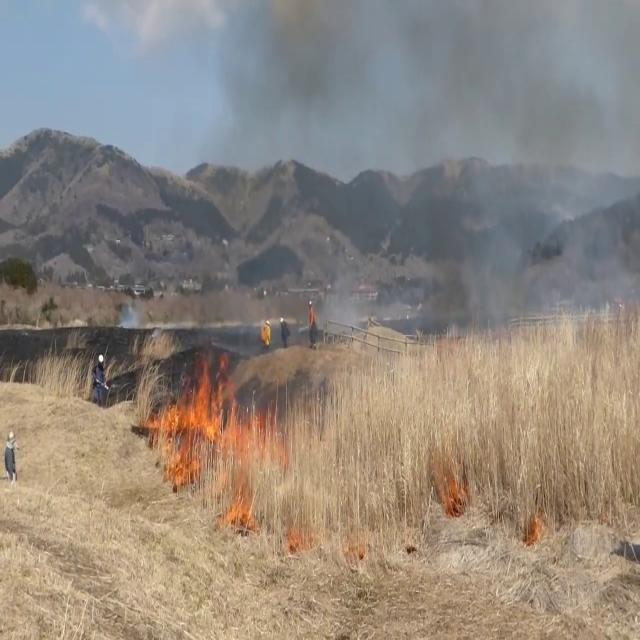Fire: (152, 347, 246, 472), (226, 476, 256, 530)
Smoke: (393, 0, 640, 358), (218, 0, 356, 316)
